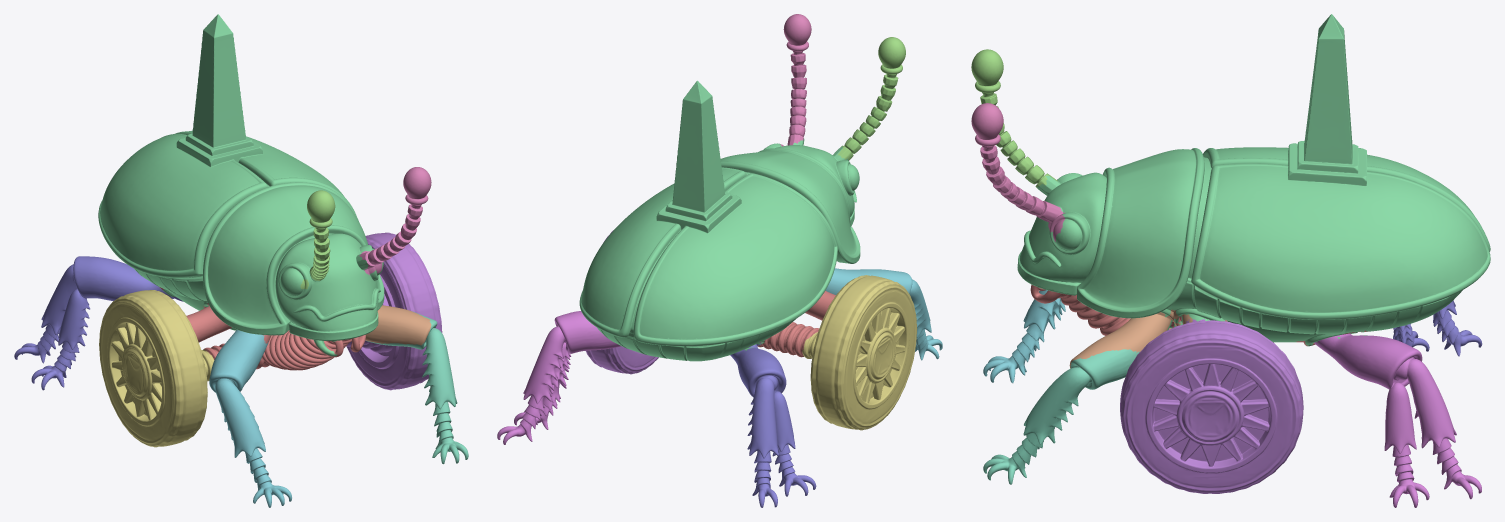
The model's file is parts_preview.glb.
The picture shows the model from 3 angles, left to right: view 1: azimuth 30°, elevation 25°; view 2: azimuth 150°, elevation 25°; view 3: azimuth 270°, elevation 25°; orthographic projection. The views are drawn at different scales.
Visible parts, largest first — view 1: Beetle_Car; view 2: Beetle_Car; view 3: Beetle_Car.
Part boxes in pixels (box(x1,y1,x2,y2)): Beetle_Car: box(14, 14, 468, 507); Beetle_Car: box(497, 14, 942, 507); Beetle_Car: box(971, 14, 1490, 507).
Bounding box in the file's own units: 0.6303 × 0.7268 × 0.8288.
